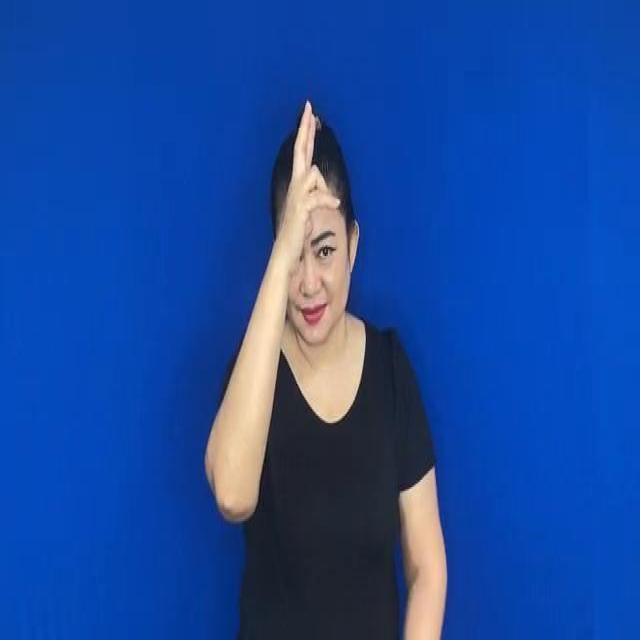chicken: (284, 92, 340, 260)
